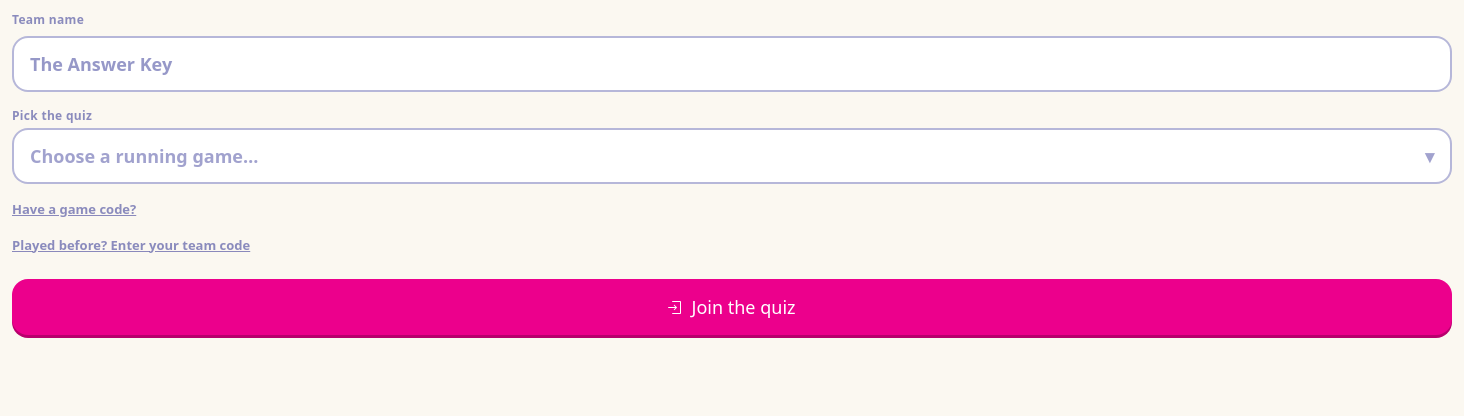
Test: JoinForm › fills the game code field when a live session is picked from the select
The width and height of the screenshot is (1464, 416).
Click the dropdown named "pick the quiz": (144, 156) [12,128,1452,184]
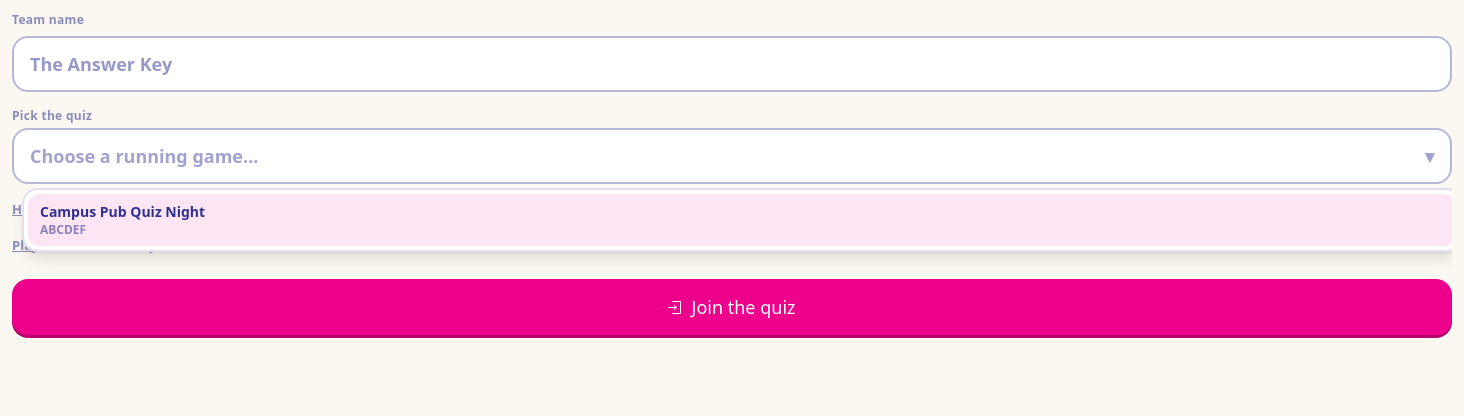
Click the option "Campus Pub Quiz Night ABCDEF": (123, 212) [28,194,1452,246]
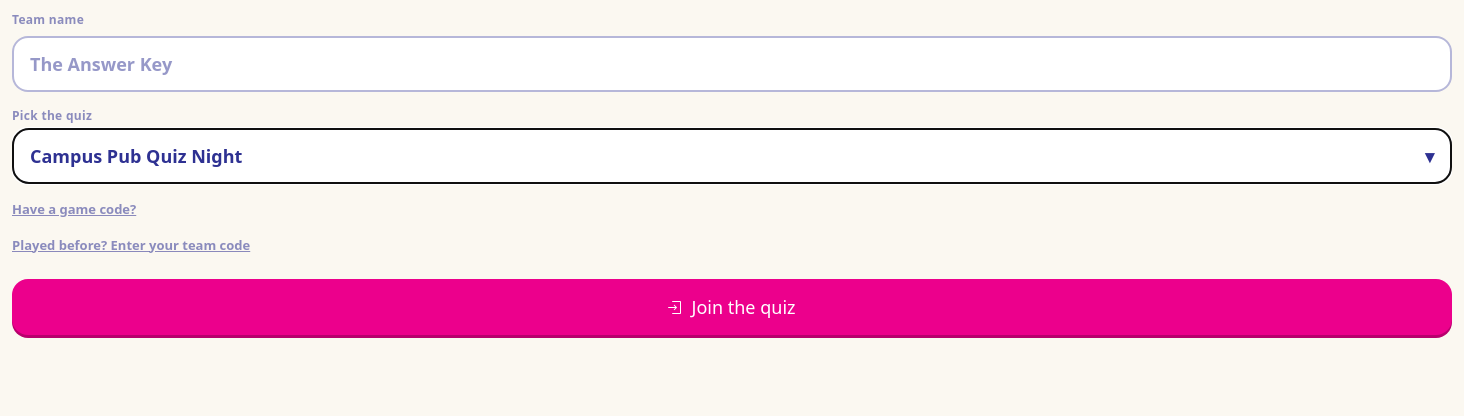
Click the button "Have a game code?": (74, 210) [12,200,136,220]
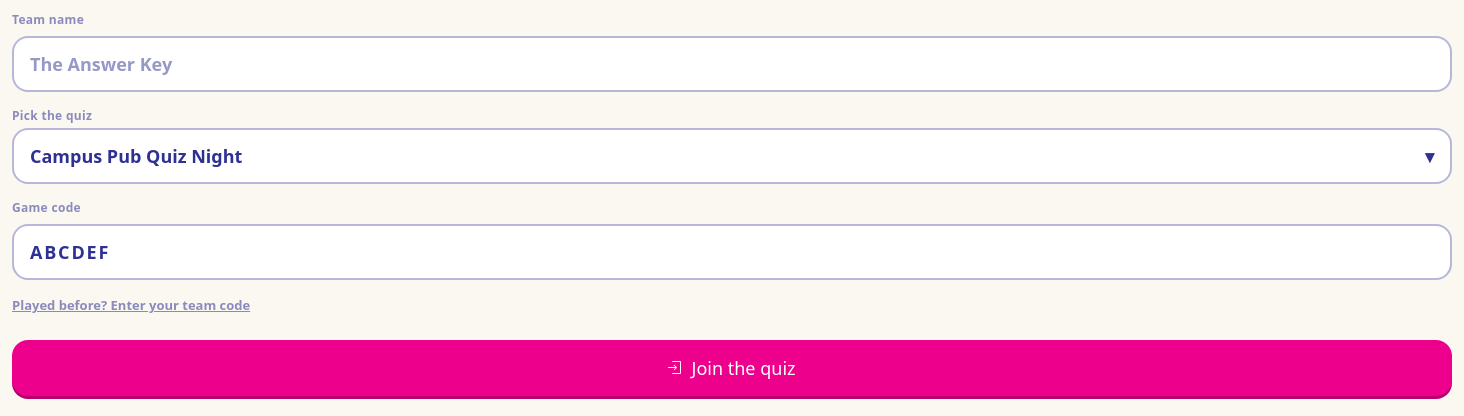
Expected: the field labelled "Game code" holds "ABCDEF", [12,224,1452,280]
